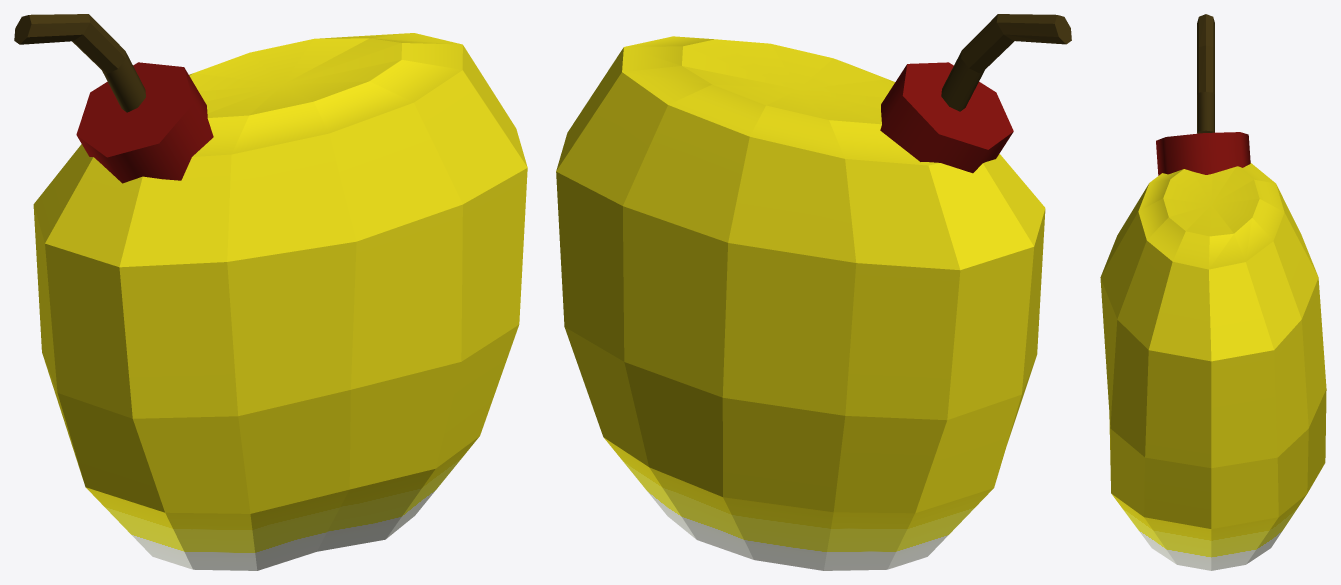
File: corn_bomb.fbx
3 views of the same model, side by side, from view 1: azimuth 30°, elevation 25°; view 2: azimuth 150°, elevation 25°; view 3: azimuth 270°, elevation 25° (orthographic). The views are drawn at different scales.
Visible parts, largest first — view 1: corn; view 2: corn; view 3: corn.
Boxes of the visible parts, x1,y1,x2,y2 form: corn: (14,14,527,570); corn: (556,14,1071,570); corn: (1100,14,1326,570).
Size of the model in its own units: 157 by 172 by 83.65.
